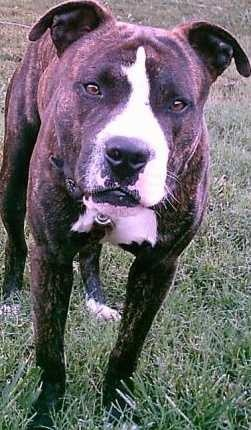dog: (0, 0, 235, 402)
